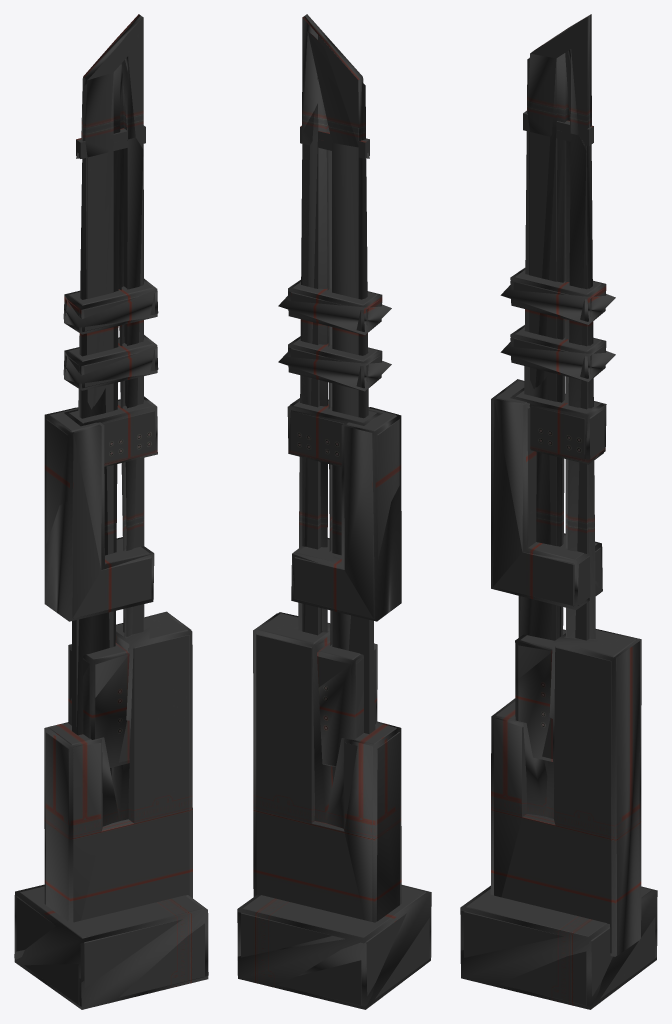
The model's file is sm_skyscraper_module11.glb.
3 renders of one model, left to right at view 1: azimuth 30°, elevation 25°; view 2: azimuth 150°, elevation 25°; view 3: azimuth 330°, elevation 25°, orthographic.
Parts seen in each view (by area): view 1: sm_skyscraper_module11_00; view 2: sm_skyscraper_module11_00; view 3: sm_skyscraper_module11_00.
Boxes of the visible parts, left/top/right/bottom form: sm_skyscraper_module11_00: left=14, top=14, right=208, bottom=1009; sm_skyscraper_module11_00: left=237, top=14, right=431, bottom=1009; sm_skyscraper_module11_00: left=460, top=14, right=657, bottom=1009.
Bounding box in the file's own units: 3.05 × 20.77 × 2.66.
Materials: 1 (1 with a texture image).
